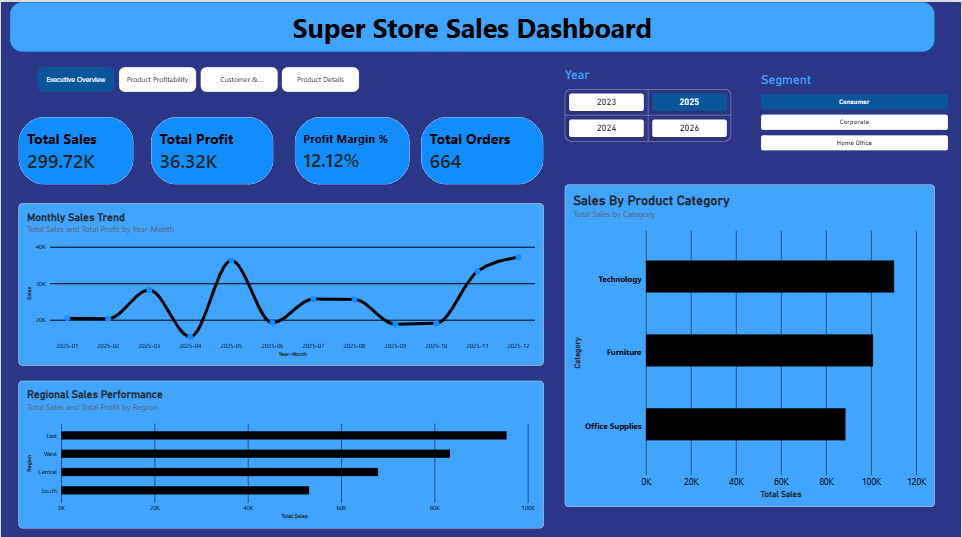

The page's visual inventory and layout, read from the dashboard file:
{"tool":"powerbi","page":{"name":"Executive Overview","canvas":[1920,1080],"ordinal":0},"visuals":[{"type":"cardVisual","fields":{"Data":["Dim_Date.Total Sales"]},"box":[35,230,230,135],"z":0},{"type":"cardVisual","fields":{"Data":["Dim_Date.Total Profit"]},"box":[300,230,245,135],"z":1},{"type":"cardVisual","fields":{"Data":["Dim_Date.Profit Margin %"]},"box":[587.5,230,230,135],"z":2},{"type":"cardVisual","fields":{"Data":["Fact_Sales.Total Orders"]},"box":[840,230,245,135],"z":3},{"type":"textbox","box":[150,415,300,300],"z":4},{"type":"shape","box":[16.7,0,1850,100],"z":6},{"type":"lineChart","title":"Monthly Sales Trend","fields":{"Category":["Dim_Date.Year-Month"],"Y":["Dim_Date.Total Sales"]},"box":[35,402.5,1050,325],"z":7},{"type":"clusteredBarChart","title":"Sales By Product Category","fields":{"Category":["Fact_Sales.Category"],"Y":["Dim_Date.Total Sales"]},"box":[1127.5,365,740,645],"z":8},{"type":"clusteredBarChart","title":"Regional Sales Performance","fields":{"Category":["Fact_Sales.Region"],"Y":["Dim_Date.Total Sales"]},"box":[35,757.5,1050,295],"z":9},{"type":"advancedSlicerVisual","fields":{"Values":["Dim_Date.Year"]},"box":[1126.7,130,333.3,150],"z":10},{"type":"advancedSlicerVisual","fields":{"Values":["Fact_Sales.Segment"]},"box":[1520,140,374,158],"z":12},{"type":"pageNavigator","box":[72.5,130,647.5,50],"z":13}]}

Visuals, with their boxes in screenshot pixels (x1, y1, x2, y2), scaled from the page's 1920x1080 canvas onto the 962x537 screenshot:
cardVisual - Dim_Date.Total Sales: (x1=18, y1=114, x2=133, y2=181)
cardVisual - Dim_Date.Total Profit: (x1=150, y1=114, x2=273, y2=181)
cardVisual - Dim_Date.Profit Margin %: (x1=294, y1=114, x2=410, y2=181)
cardVisual - Fact_Sales.Total Orders: (x1=421, y1=114, x2=544, y2=181)
textbox: (x1=75, y1=206, x2=225, y2=356)
shape: (x1=8, y1=0, x2=935, y2=50)
"Monthly Sales Trend" lineChart: (x1=18, y1=200, x2=544, y2=362)
"Sales By Product Category" clusteredBarChart: (x1=565, y1=181, x2=936, y2=502)
"Regional Sales Performance" clusteredBarChart: (x1=18, y1=377, x2=544, y2=523)
advancedSlicerVisual - Dim_Date.Year: (x1=565, y1=65, x2=732, y2=139)
advancedSlicerVisual - Fact_Sales.Segment: (x1=762, y1=70, x2=949, y2=148)
pageNavigator: (x1=36, y1=65, x2=361, y2=90)
